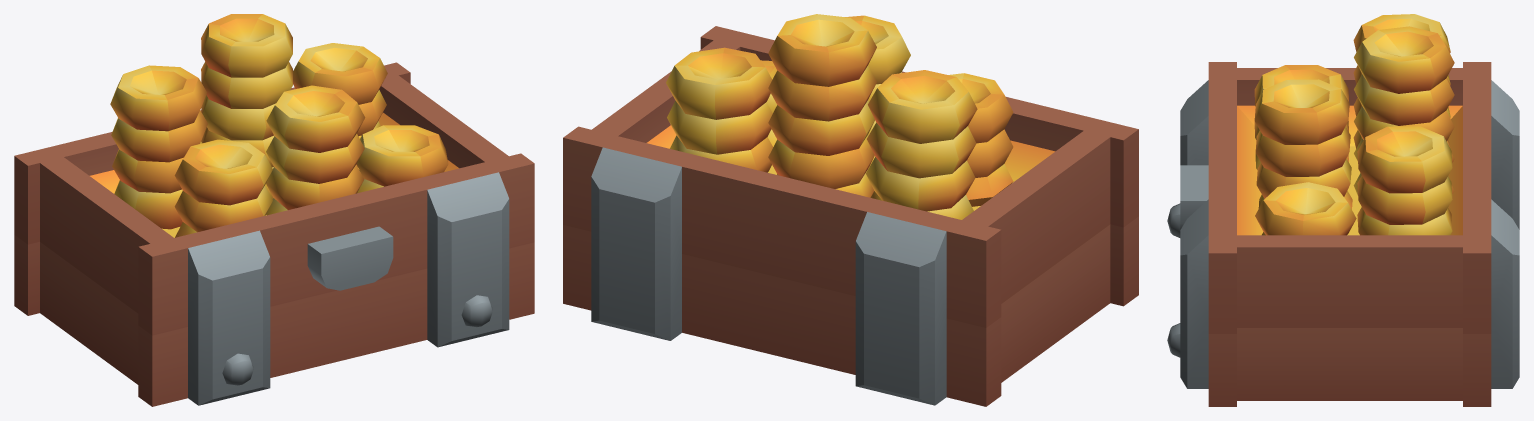
File: chest_gold.obj
3 views of the same model, side by side, from view 1: azimuth 30°, elevation 25°; view 2: azimuth 150°, elevation 25°; view 3: azimuth 270°, elevation 25° (orthographic). The views are drawn at different scales.
Visible parts, largest first — view 1: chest_gold; view 2: chest_gold; view 3: chest_gold.
Boxes of the visible parts, x1=… form: chest_gold: x1=14, y1=14, x2=534, y2=406; chest_gold: x1=563, y1=14, x2=1138, y2=406; chest_gold: x1=1167, y1=14, x2=1519, y2=406.
Size of the model in its own units: 1.6 by 1.04 by 1.25.
Materials: 1 (1 with a texture image).
